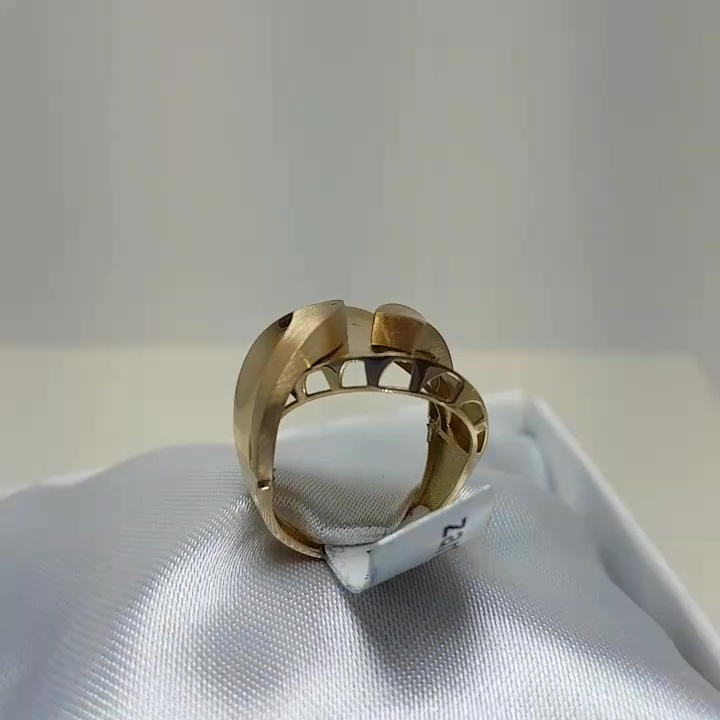Ring 4: (224, 266, 525, 605)
